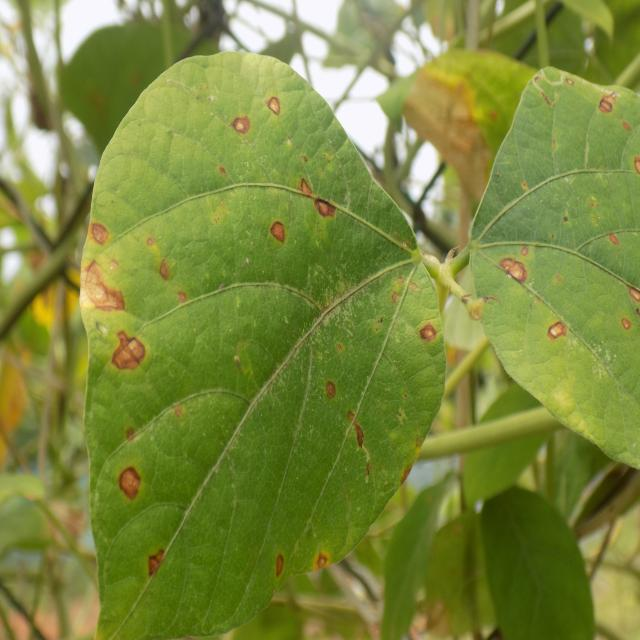Dolicos bean_cercospora leaf spot: (84, 46, 445, 640)
